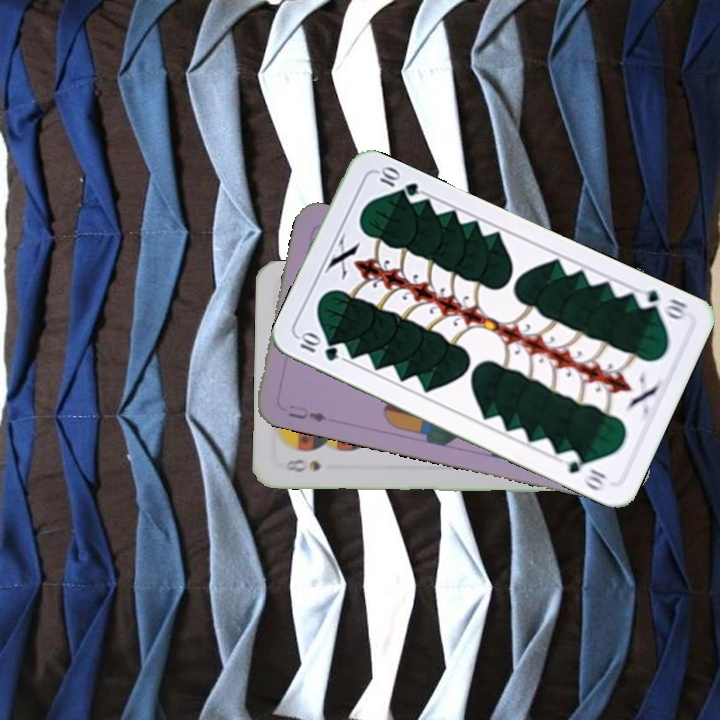EU: (283, 401, 335, 425)
G10: (631, 284, 691, 322), (293, 329, 341, 364)
S8: (282, 455, 323, 475)
